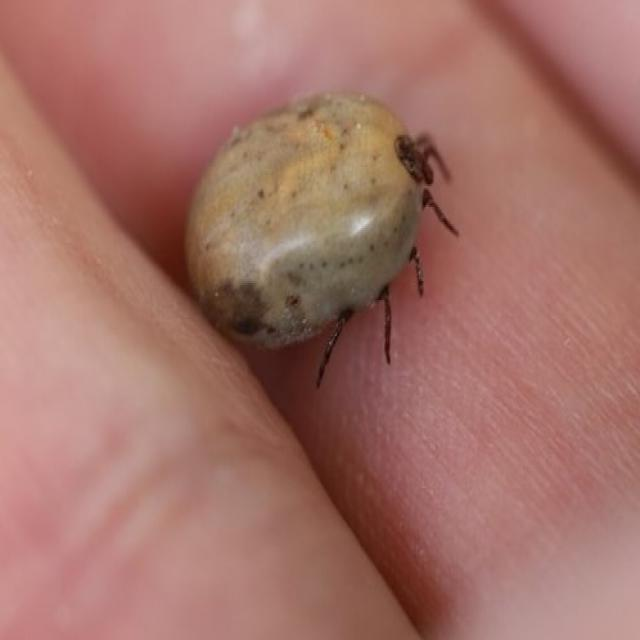Dermacentor Reticulatus-F-Fed: (184, 93, 460, 391)
